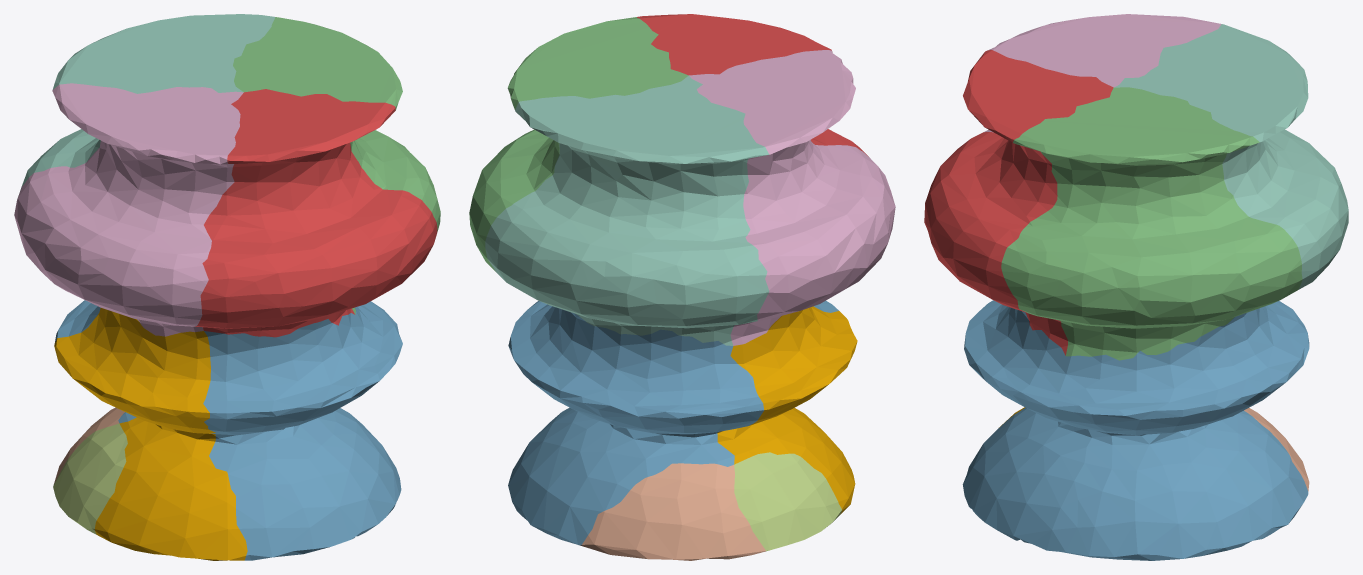
File: fractured_64_8pcs.glb
3 renders of one model, left to right at view 1: azimuth 30°, elevation 25°; view 2: azimuth 150°, elevation 25°; view 3: azimuth 270°, elevation 25°, orthographic.
Parts seen in each view (by area): view 1: piece_1.obj, piece_6.obj, piece_2.obj, piece_0.obj, piece_3.obj, piece_4.obj, piece_5.obj, piece_7.obj; view 2: piece_4.obj, piece_2.obj, piece_6.obj, piece_3.obj, piece_0.obj, piece_7.obj, piece_5.obj, piece_1.obj; view 3: piece_2.obj, piece_3.obj, piece_4.obj, piece_1.obj, piece_6.obj, piece_7.obj.
Part boxes in pixels (x1,y1,x2,y2): piece_1.obj: [195, 89, 437, 337]; piece_6.obj: [14, 83, 243, 336]; piece_2.obj: [55, 300, 402, 560]; piece_0.obj: [54, 308, 247, 560]; piece_3.obj: [233, 17, 440, 314]; piece_4.obj: [21, 14, 274, 188]; piece_5.obj: [53, 423, 127, 534]; piece_7.obj: [54, 407, 124, 483]; piece_4.obj: [485, 75, 769, 345]; piece_2.obj: [508, 300, 838, 545]; piece_6.obj: [689, 50, 895, 345]; piece_3.obj: [469, 17, 688, 271]; piece_0.obj: [717, 306, 857, 514]; piece_7.obj: [581, 463, 765, 560]; piece_5.obj: [734, 452, 841, 551]; piece_1.obj: [637, 14, 868, 156]; piece_2.obj: [962, 300, 1309, 560]; piece_3.obj: [1001, 87, 1302, 360]; piece_4.obj: [1114, 24, 1348, 289]; piece_1.obj: [924, 50, 1113, 355]; piece_6.obj: [984, 14, 1221, 132]; piece_7.obj: [1244, 408, 1309, 491].
Size of the model in its own units: 0.9504 by 1 by 0.95.
